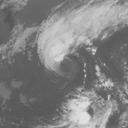cyclone: (36, 34, 81, 88)
